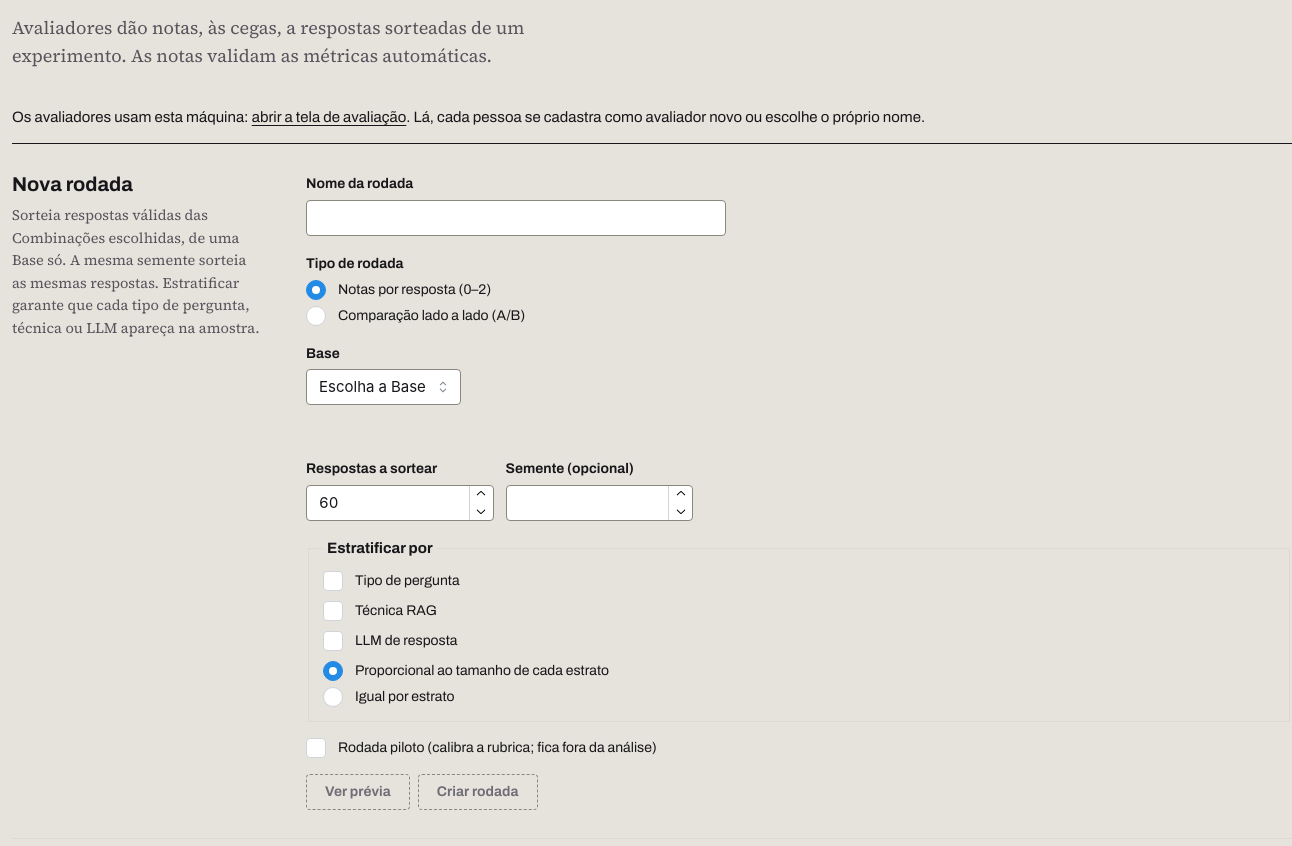
it: RodadasPage › previews how many answers each stratum gives and warns about short ones
Type "x" into the field labelled "Nome da rodada" at (516, 218), box x1=306 y1=200 x2=726 y2=236
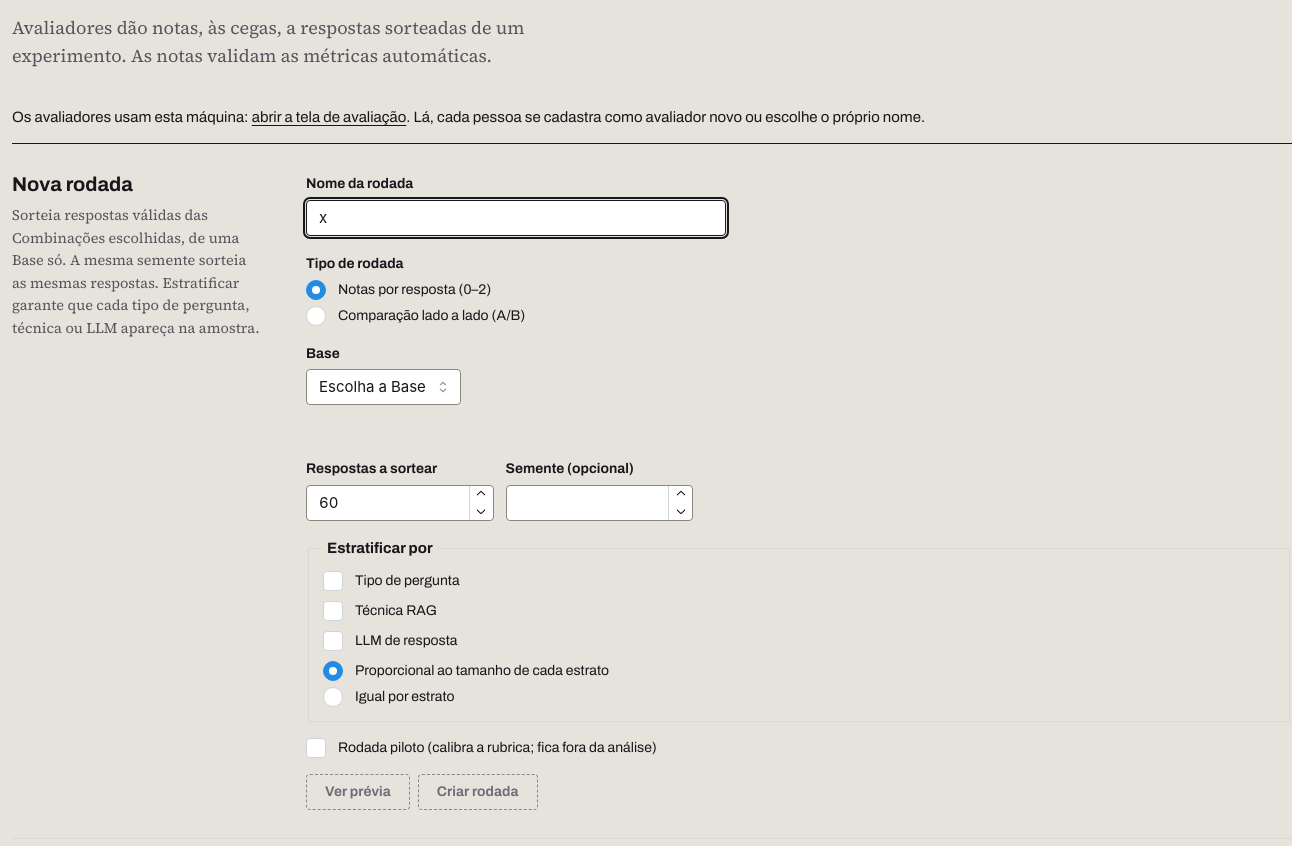
Select "campanha-b2" in the dropdown labelled "Base" at (384, 387), box x1=306 y1=369 x2=461 y2=405
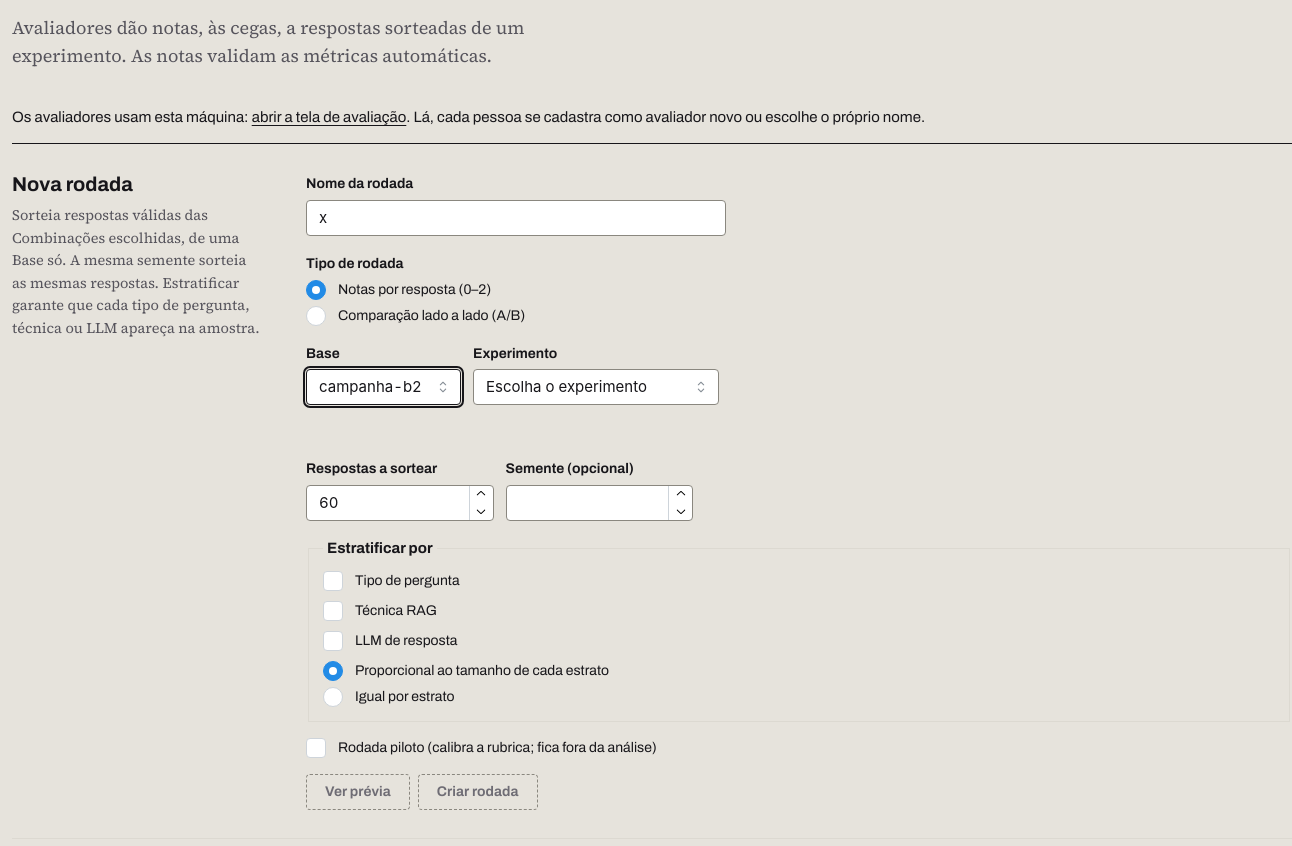
Select "B2.E3.1-qwen35-4b (#90)" in the dropdown labelled "Experimento" at (596, 387), box x1=473 y1=369 x2=719 y2=405
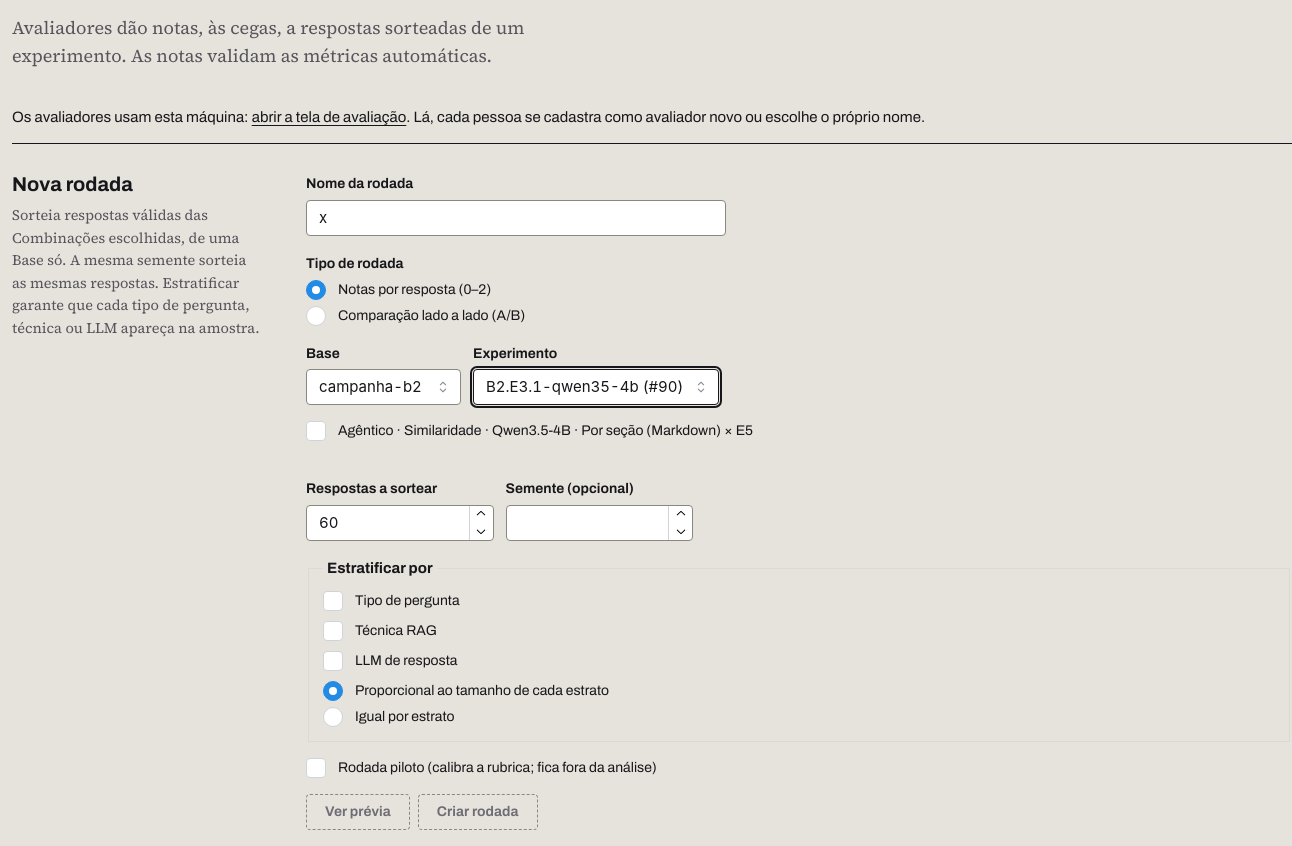
Click the 1st checkbox at (316, 431), box x1=306 y1=421 x2=326 y2=441
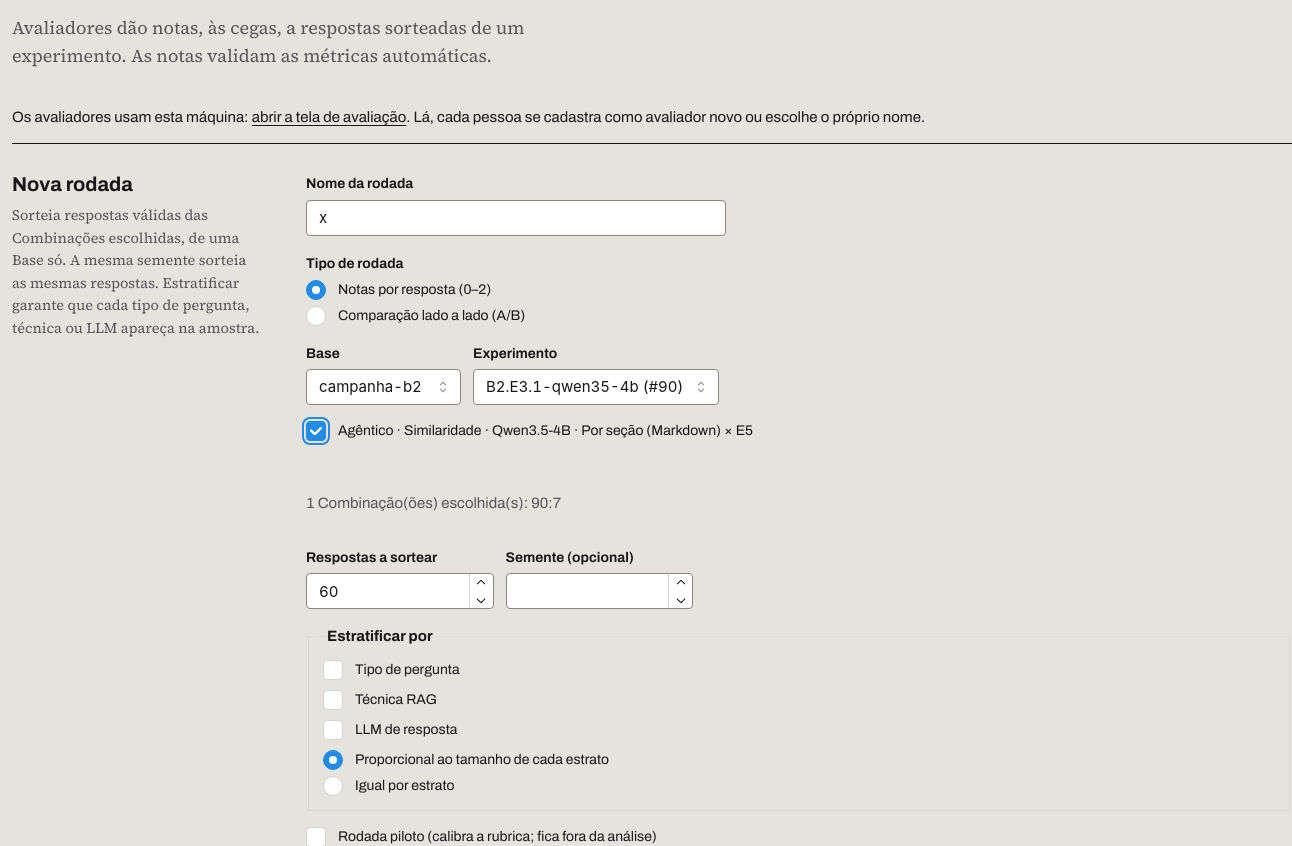
Click the checkbox labelled "Tipo de pergunta" at (333, 670), box x1=323 y1=660 x2=343 y2=680
(page scrolled)
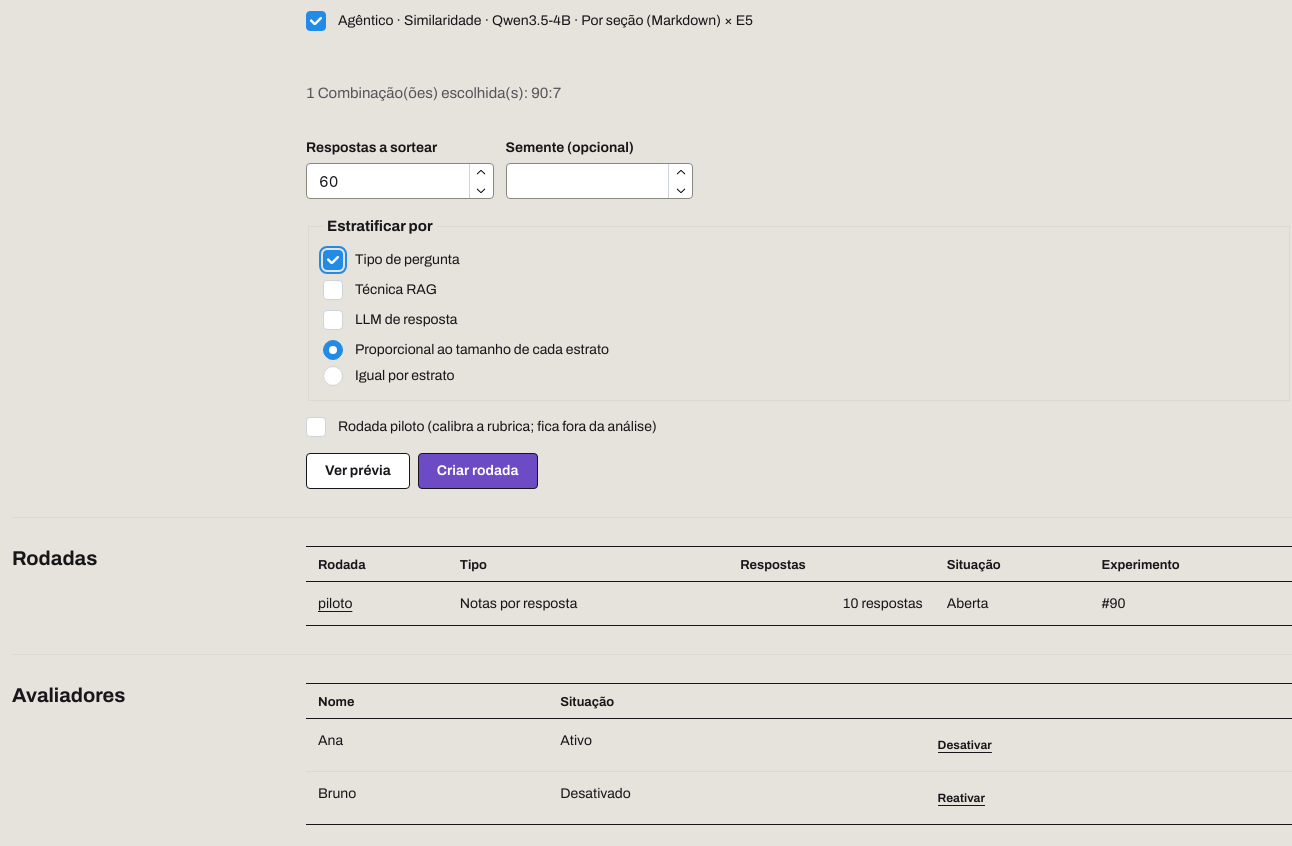
Click the button "Ver prévia" at (358, 471), box x1=306 y1=453 x2=410 y2=489
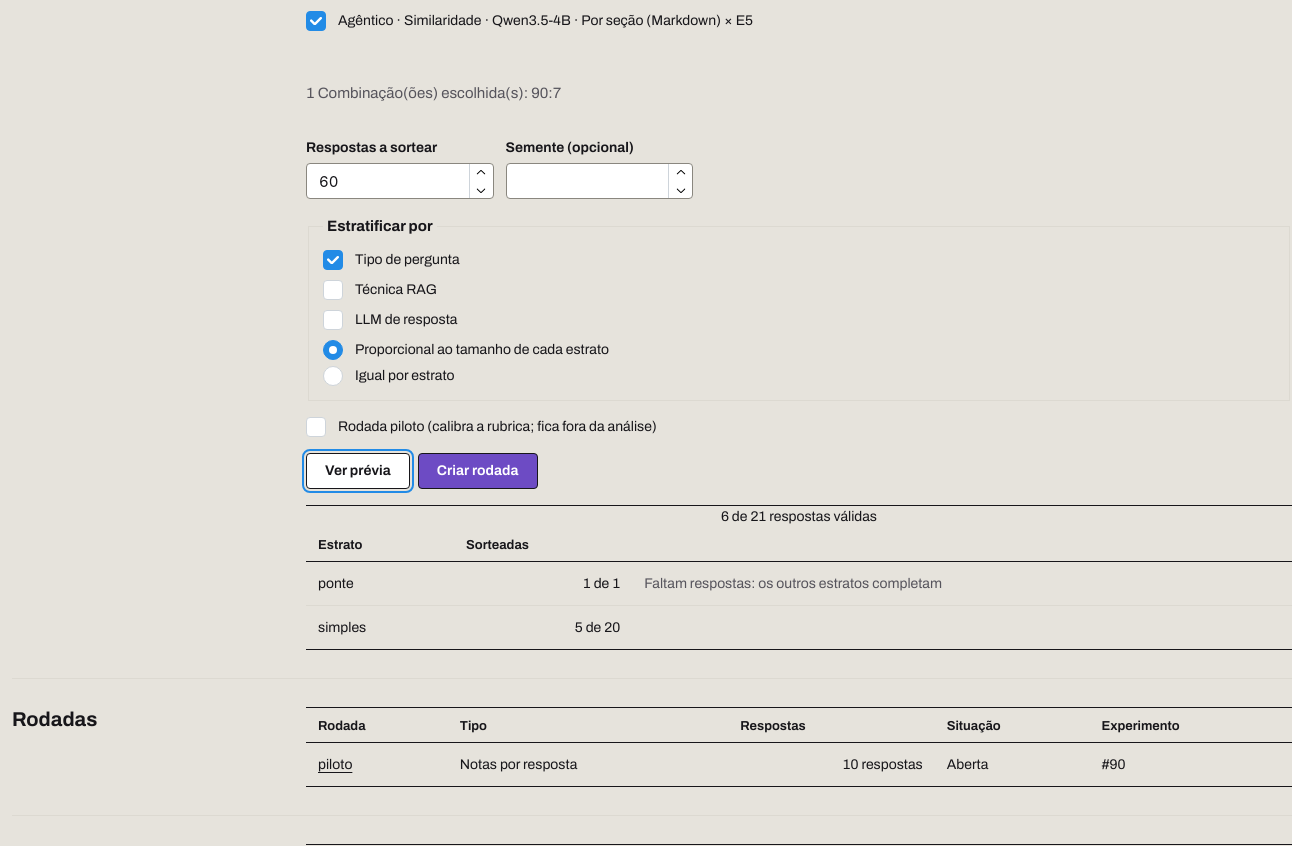
Check: the text "1 de 1" is shown, box x1=454 y1=562 x2=632 y2=606
Check: the text "Faltam respostas: os outros estratos completam" is shown, box x1=644 y1=576 x2=942 y2=591
Check: the text "5 de 20" is shown, box x1=454 y1=606 x2=632 y2=649
